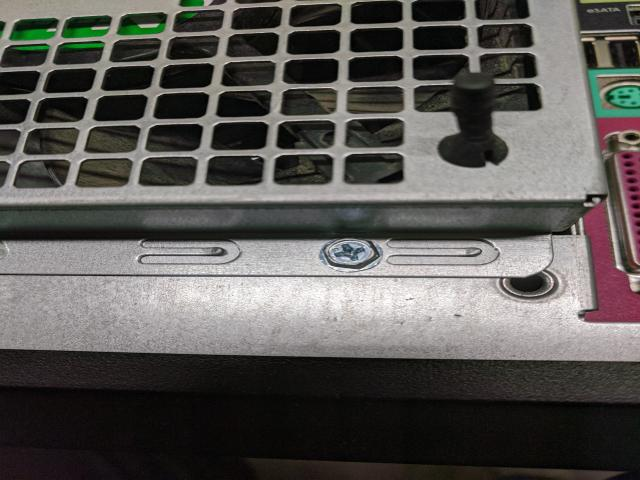CRS: (327, 235, 377, 267)
